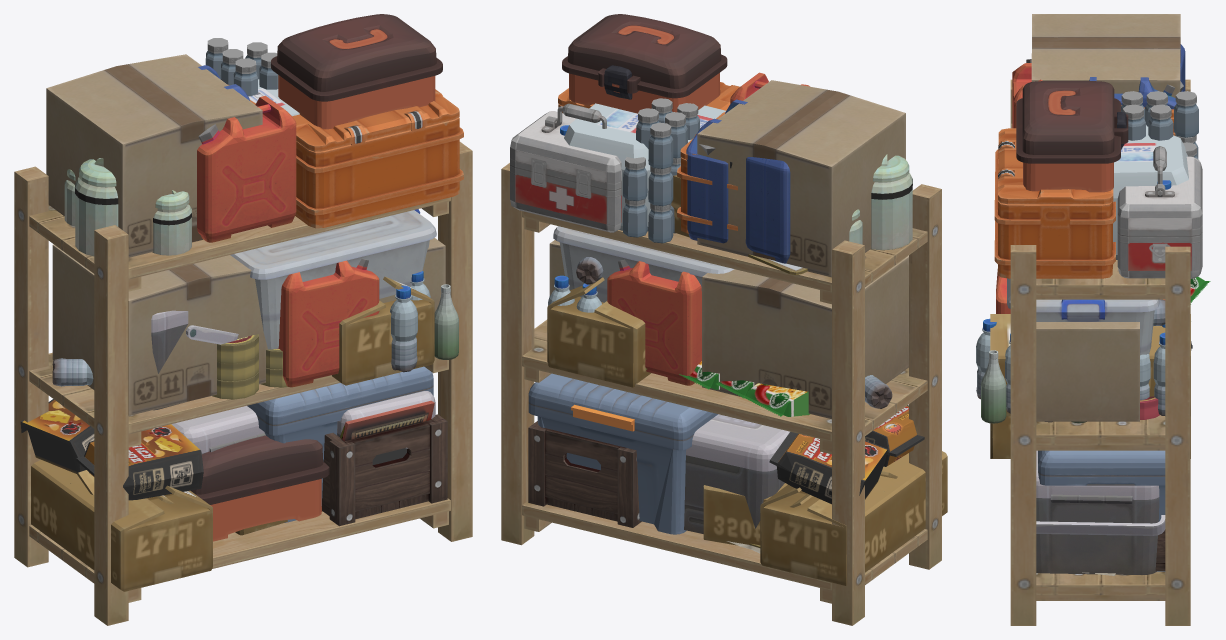
File: Home_05.obj
3 views of the same model, side by side, from view 1: azimuth 30°, elevation 25°; view 2: azimuth 150°, elevation 25°; view 3: azimuth 270°, elevation 25° (orthographic). The views are drawn at different scales.
Bounding box in the file's own units: 1.87 × 2.42 × 1.07.
150 materials, 150 textured.
